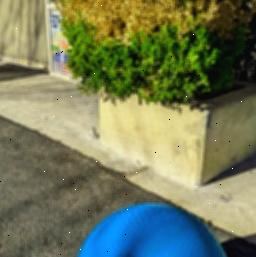algae: (70, 199, 235, 257)
